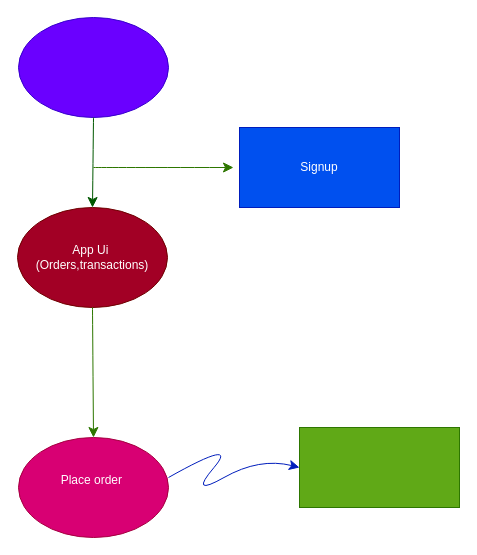
Image size: 477x555. Some labels were removed from this diagram. Each missing label, with the centre of its shape:
"Login" belongs at point 93,67.
"Payment Methods" belongs at point 379,467.
